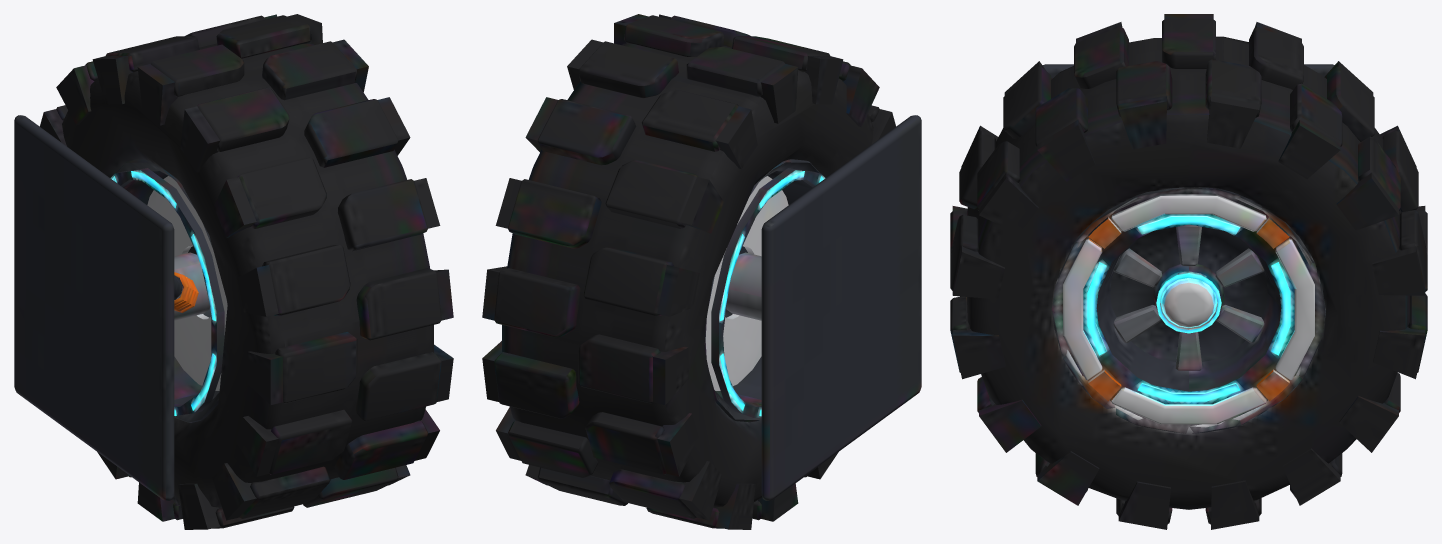
Rendered from R4M_WheelM_Side_Offroad_LOD1.glb.
The picture shows the model from 3 angles, left to right: view 1: azimuth 30°, elevation 25°; view 2: azimuth 150°, elevation 25°; view 3: azimuth 270°, elevation 25°; orthographic projection.
Visible parts, largest first — view 1: R4M_WheelM_Side_Offroad_LOD1; view 2: R4M_WheelM_Side_Offroad_LOD1; view 3: R4M_WheelM_Side_Offroad_LOD1.
Part boxes in pixels (x1,y1,x2,y2): R4M_WheelM_Side_Offroad_LOD1: (14,14,453,529); R4M_WheelM_Side_Offroad_LOD1: (482,14,921,529); R4M_WheelM_Side_Offroad_LOD1: (950,14,1427,529).
Bounding box in the file's own units: 0.451 × 0.7763 × 0.7763.
Materials: 4 (4 with a texture image).
